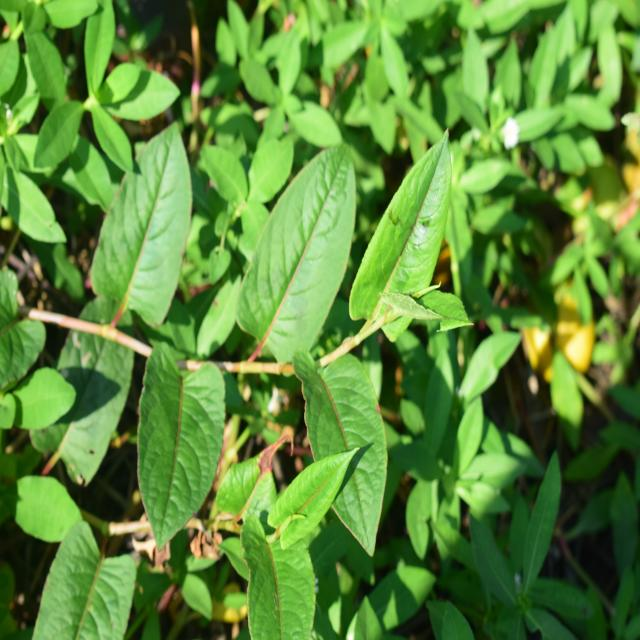Chinese_knotweed: (106, 140, 461, 508)
